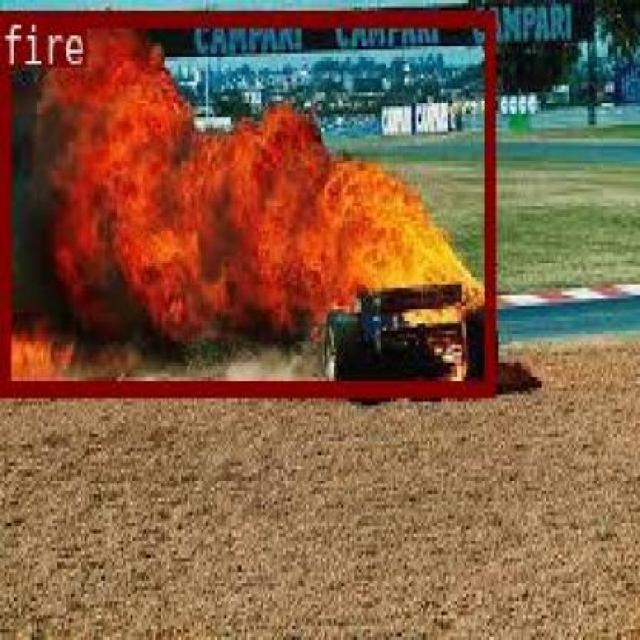fire: (0, 9, 494, 394)
